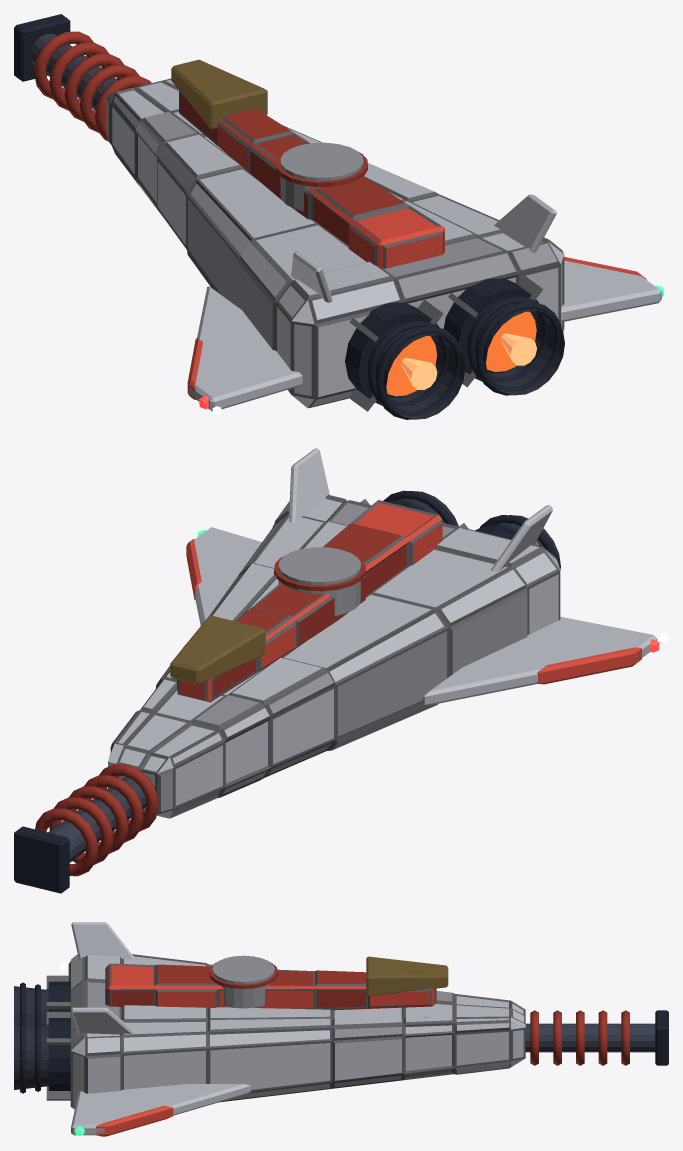
File: pike.glb
3 renders of one model, top to bottom at view 1: azimuth 30°, elevation 25°; view 2: azimuth 150°, elevation 25°; view 3: azimuth 270°, elevation 25°, orthographic. The views are drawn at different scales.
Parts seen in each view (by area): view 1: pike_mesh; view 2: pike_mesh; view 3: pike_mesh.
Part boxes in pixels (left/top/right/bottom): pike_mesh: left=14, top=14, right=664, bottom=419; pike_mesh: left=14, top=448, right=659, bottom=893; pike_mesh: left=14, top=922, right=668, bottom=1136.
Size of the model in its own units: 6.16 by 1.93 by 10.08.
